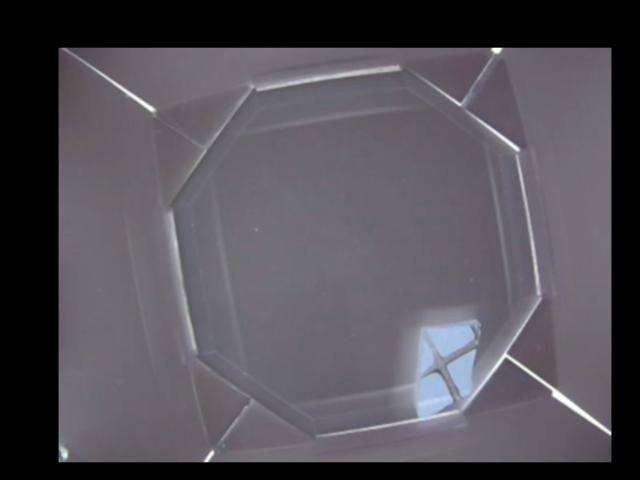China: (417, 321, 478, 419)
